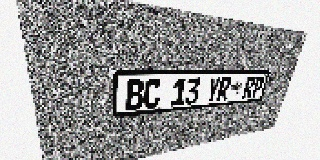1: (170, 78, 188, 106)
3: (184, 78, 201, 105)
B: (126, 79, 144, 111)
C: (143, 79, 162, 109)
P: (251, 76, 265, 98)
R: (216, 77, 232, 101), (242, 77, 256, 99)
Y: (205, 78, 221, 102)
